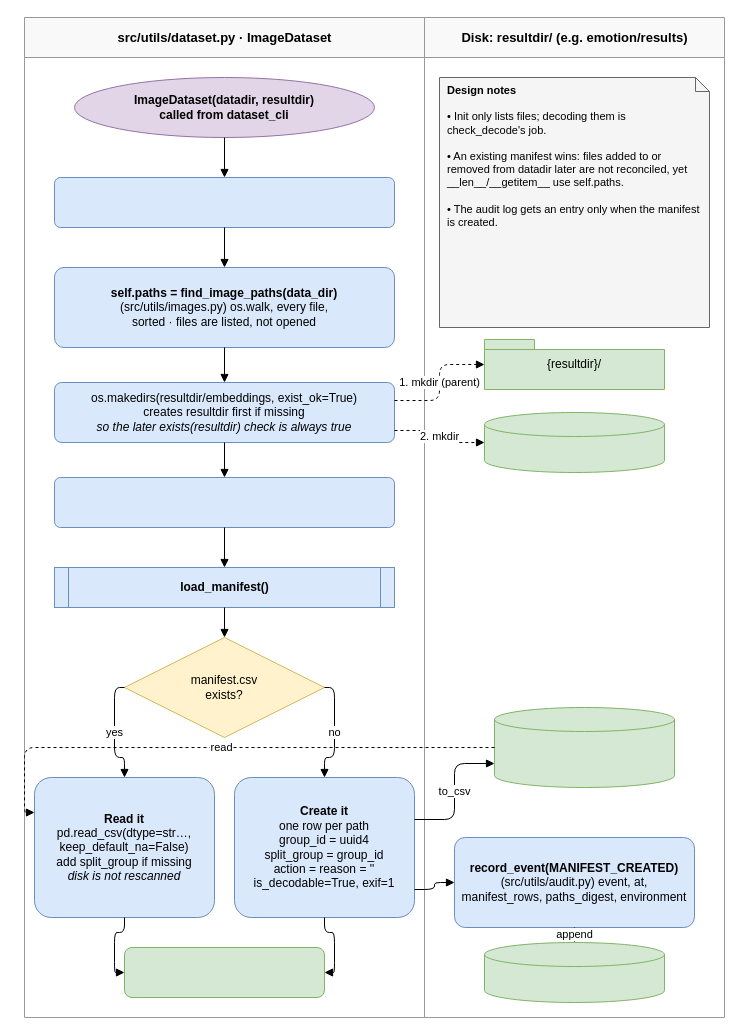
Image size: 742x1035. Some labels were removed from this diagram. The shapes that lost their labels are listed below. From the top down, each one's centre as x and y in pixels, then its label:
At point 224,202: "__init__ : store data_dir, result_dir, transform".
At point 574,442: "embeddings/".
At point 224,502: "_manifest_path = manifest.csv _audit_path = audits.json".
At point 584,747: "manifest.csv".
At point 224,972: "returns dataset (self._manifest ready)".
At point 574,972: "audits.json (appended)".
